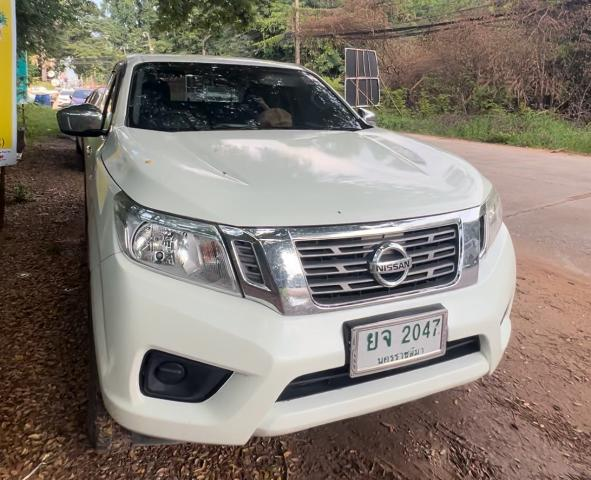pickup-truck: (53, 46, 523, 449)
